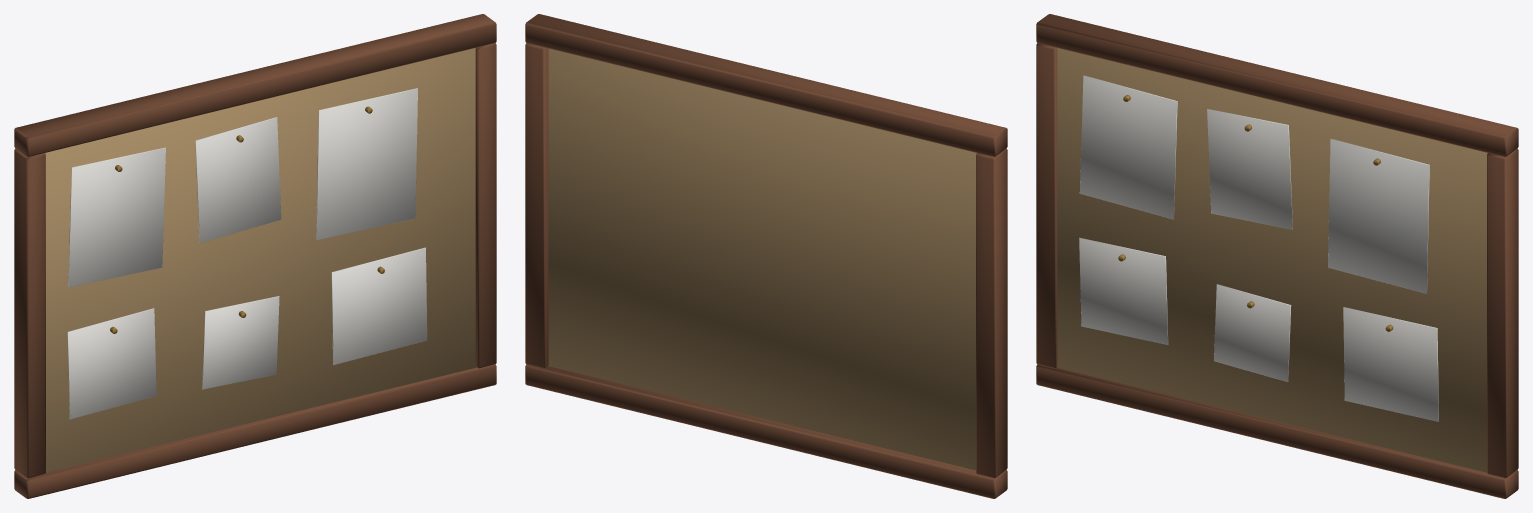
File: asset_096_bulletin_board.glb
3 renders of one model, left to right at view 1: azimuth 30°, elevation 25°; view 2: azimuth 150°, elevation 25°; view 3: azimuth 330°, elevation 25°, orthographic.
Parts seen in each view (by area): view 1: MESH_BulletinCork, MESH_BulletinContent, MESH_BulletinFrame_Frame; view 2: MESH_BulletinCork, MESH_BulletinFrame_Frame; view 3: MESH_BulletinCork, MESH_BulletinContent, MESH_BulletinFrame_Frame.
Part boxes in pixels (bbox=[...]): MESH_BulletinCork: bbox=[45, 48, 475, 472]; MESH_BulletinContent: bbox=[67, 88, 427, 419]; MESH_BulletinFrame_Frame: bbox=[14, 14, 496, 498]; MESH_BulletinCork: bbox=[548, 48, 976, 470]; MESH_BulletinFrame_Frame: bbox=[525, 14, 1007, 498]; MESH_BulletinCork: bbox=[1057, 48, 1487, 472]; MESH_BulletinContent: bbox=[1079, 75, 1438, 421]; MESH_BulletinFrame_Frame: bbox=[1036, 14, 1518, 498].
Bounding box in the file's own units: 0.95 × 0.7 × 0.053.
